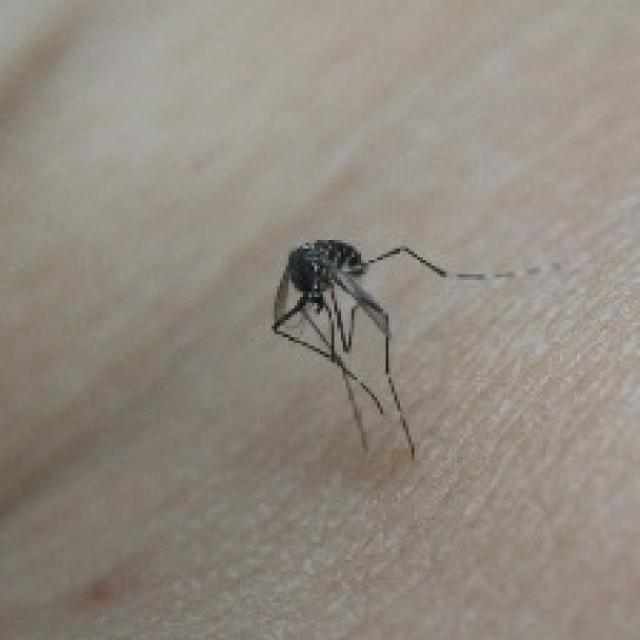aedes: (266, 234, 548, 463)
